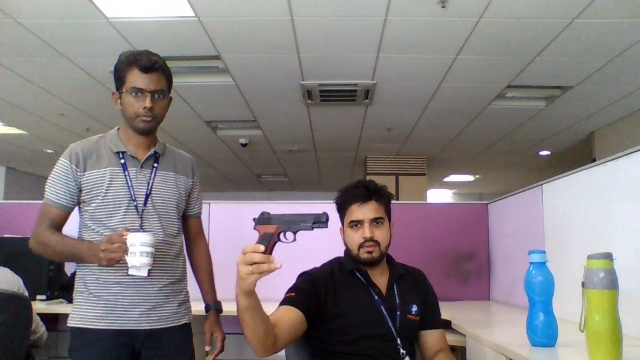gun: (248, 209, 331, 242)
